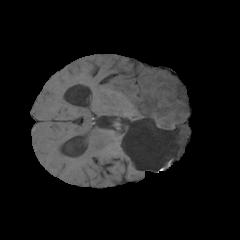glioma: (104, 72, 187, 154)
